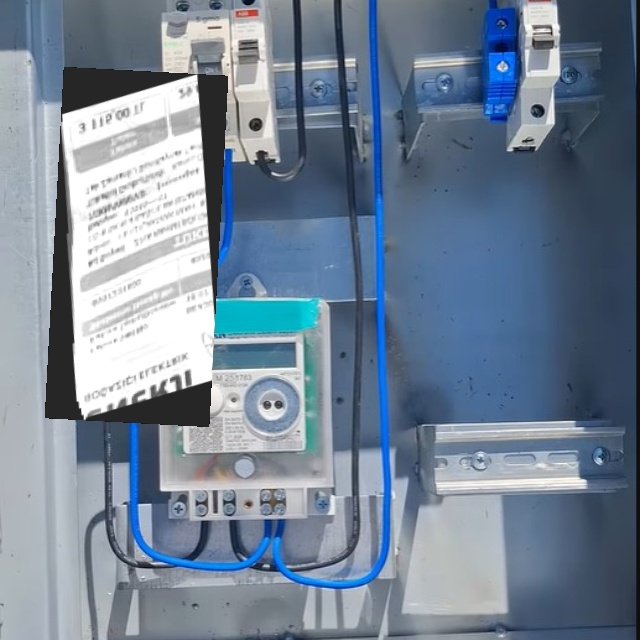electricity-bill: (44, 66, 228, 426)
